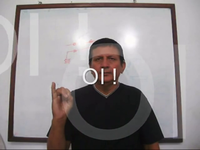oi: (49, 80, 77, 119)
